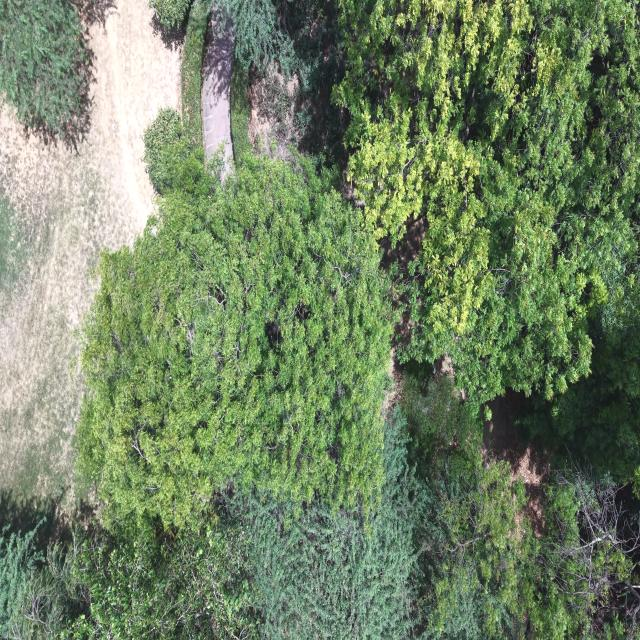DRY_AREA: (0, 0, 179, 513), (481, 388, 550, 535), (202, 20, 233, 177)
VEGETATION_TREE: (0, 0, 639, 639), (3, 379, 639, 639), (78, 2, 392, 524), (335, 1, 639, 401), (77, 154, 392, 525), (231, 403, 639, 639), (403, 373, 639, 639), (226, 407, 422, 639), (415, 448, 639, 639), (401, 367, 539, 639), (6, 518, 255, 639), (414, 446, 535, 639), (72, 520, 255, 639), (519, 469, 639, 639), (231, 0, 348, 166), (520, 323, 639, 481), (0, 0, 93, 148), (143, 0, 208, 194), (283, 0, 348, 166), (4, 530, 87, 639), (402, 363, 481, 453), (214, 0, 298, 74), (0, 522, 43, 635), (144, 108, 198, 194), (181, 0, 209, 152), (0, 185, 27, 290), (230, 57, 253, 164), (149, 0, 193, 50), (149, 0, 191, 27)
